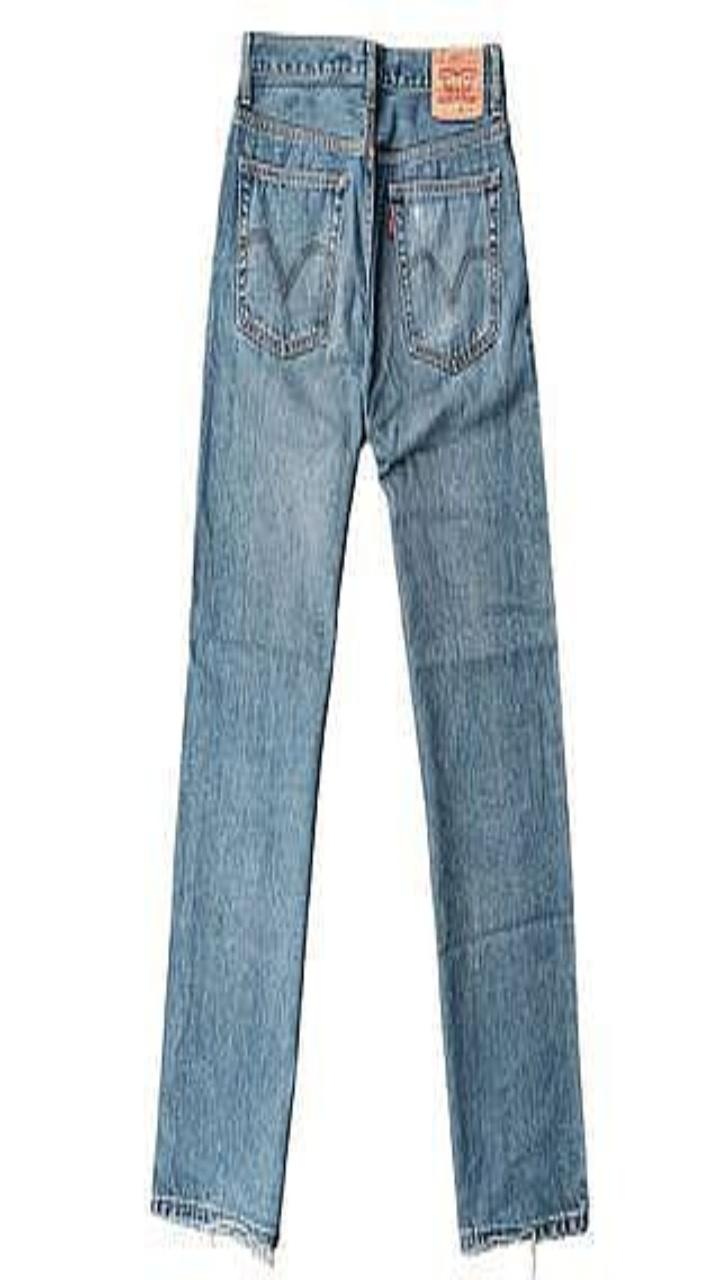Jeans: (152, 33, 587, 1257)
